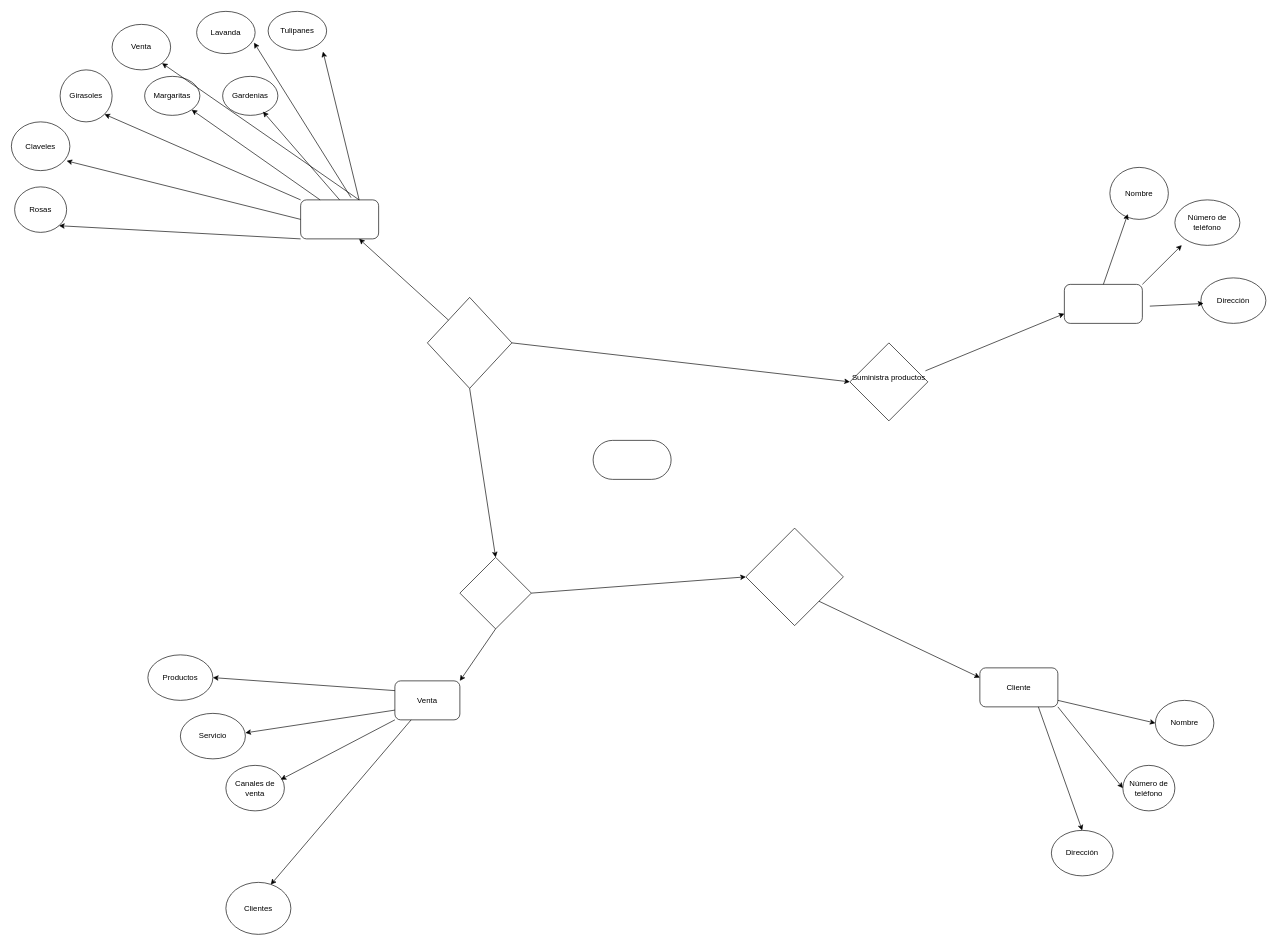
The diagram is 1277 pixels wide and 946 high, and some of its shapes have lost their labels. The centre of each missing label's shape, as x and y in pixels:
"Floreria" goes at (x=631, y=459).
"Producto" goes at (x=339, y=219).
"Producto administrado por la tienda" goes at (x=469, y=342).
"Proveedor" goes at (x=1103, y=303).
"Un cliente puede comprar un producto o más" goes at (x=794, y=576).
"Venta realizada por uno o varios clientes" goes at (x=495, y=593).
